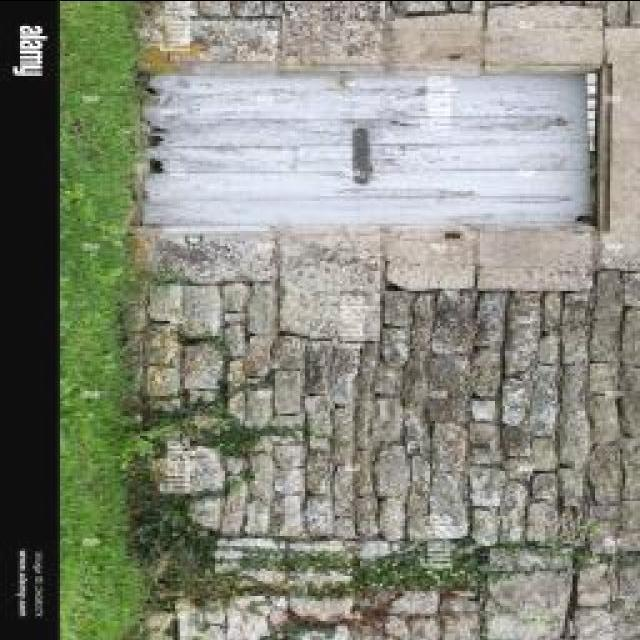dampness: (150, 258, 640, 640), (639, 7, 640, 16)
vegetation: (61, 3, 640, 640), (134, 439, 519, 619)
